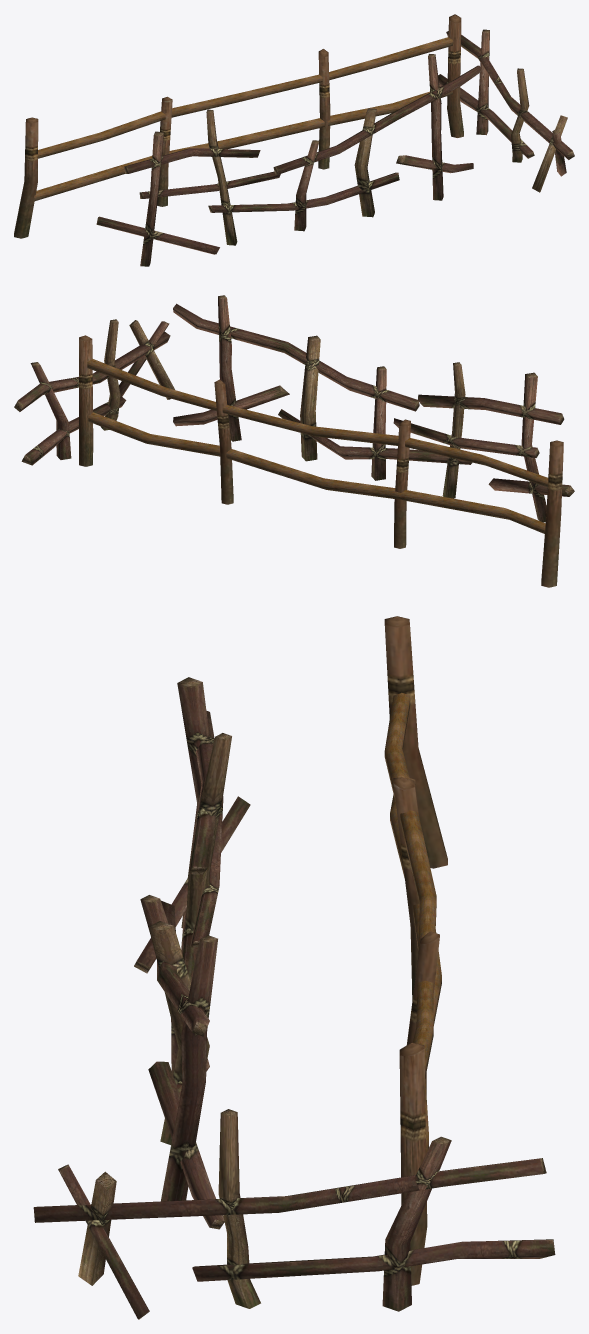
File: tw_langan.FBX
3 views of the same model, one above another, from view 1: azimuth 30°, elevation 25°; view 2: azimuth 150°, elevation 25°; view 3: azimuth 270°, elevation 25° (orthographic). The views are drawn at different scales.
Parts seen in each view (by area): view 1: tw_langan02, tw_langan01, tw_langan03; view 2: tw_langan01, tw_langan02, tw_langan03; view 3: tw_langan03, tw_langan02, tw_langan01.
Boxes of the visible parts, box(x1,y1,x2,y2) form: tw_langan02: box(96, 54, 481, 266); tw_langan01: box(14, 14, 463, 238); tw_langan03: box(438, 29, 574, 192); tw_langan01: box(79, 335, 563, 587); tw_langan02: box(173, 295, 574, 522); tw_langan03: box(14, 319, 174, 465); tw_langan03: box(33, 1109, 555, 1319); tw_langan02: box(134, 677, 250, 1229); tw_langan01: box(384, 616, 447, 1285).
Size of the model in its own units: 62.59 by 16.96 by 29.52.
